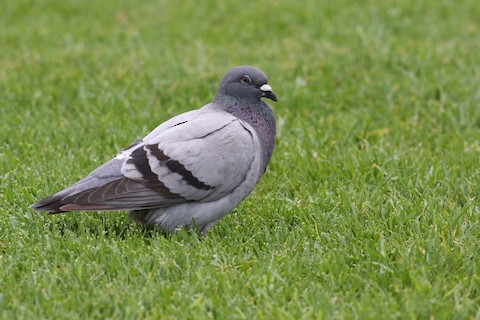pigeon: (26, 62, 282, 247)
